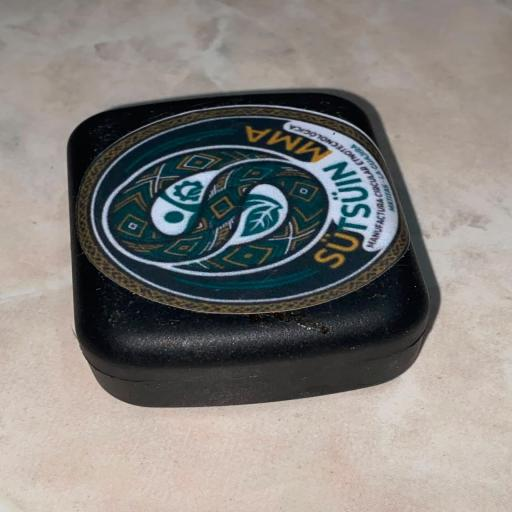HDPE: (67, 91, 431, 408)
